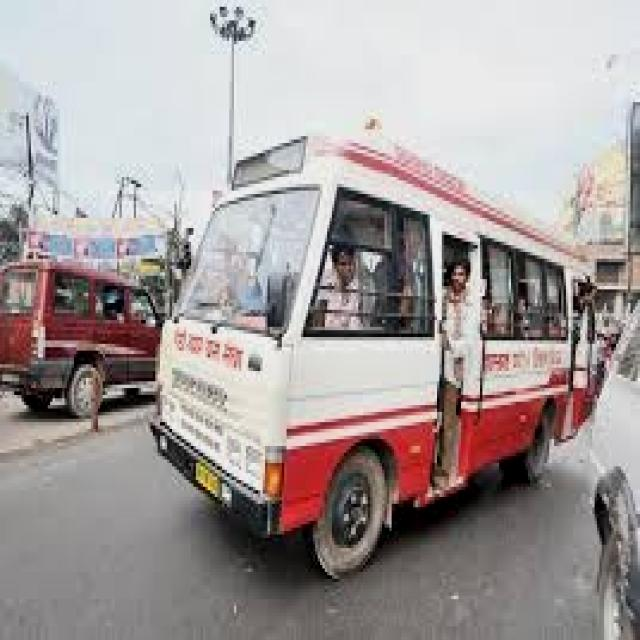bus: (135, 117, 621, 568)
